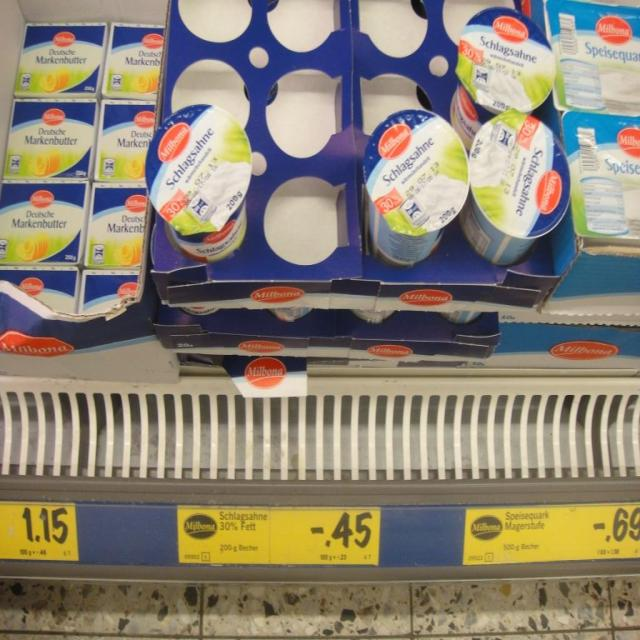Butter stick/block: (4, 99, 98, 179), (0, 180, 89, 264), (14, 23, 107, 98), (84, 182, 146, 269), (94, 100, 154, 182), (102, 22, 163, 101), (0, 267, 79, 312), (79, 270, 139, 312)
Cream: (459, 109, 569, 264), (364, 110, 469, 267), (146, 104, 251, 261), (451, 8, 555, 149)
Quark: (544, 0, 639, 116), (562, 112, 639, 247)
